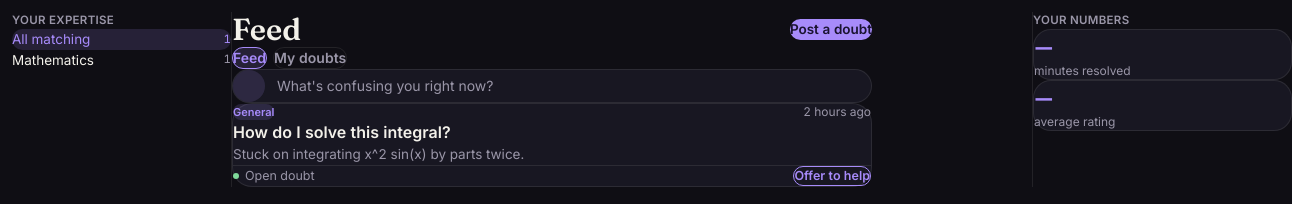
Test: FeedPage › shows the user's own doubts under the My doubts tab
Expected: the heading "How do I solve this integral?" is shown, left=233, top=122, right=451, bottom=142
Click the tab "My doubts". click: click(310, 58)
box: left=273, top=47, right=347, bottom=69
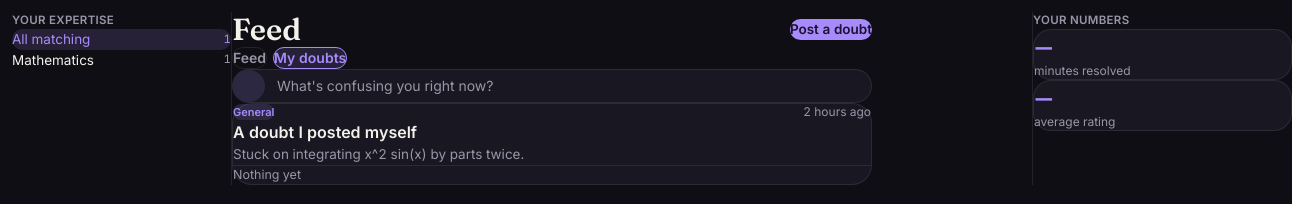
Result: the heading "A doubt I posted myself" is shown at left=233, top=122, right=417, bottom=142
Result: the heading "How do I solve this integral?" is gone
